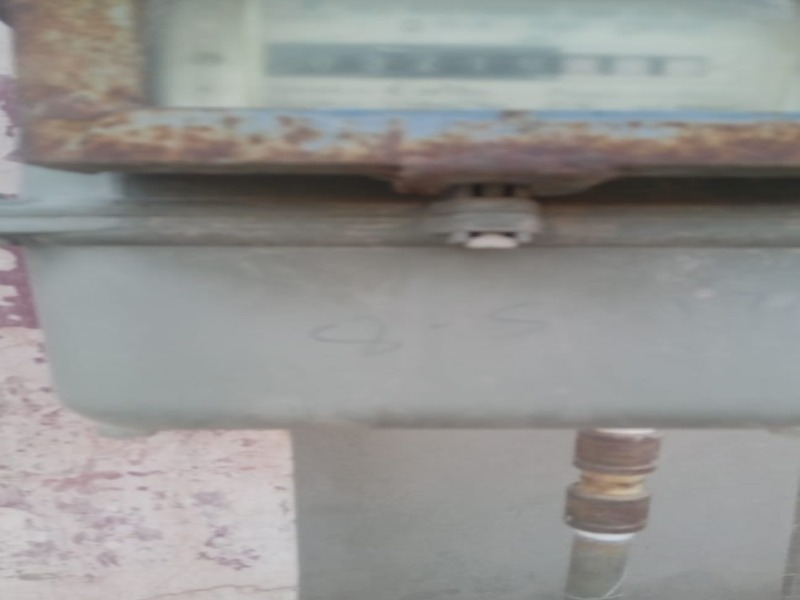ssgc: (256, 36, 709, 91)
